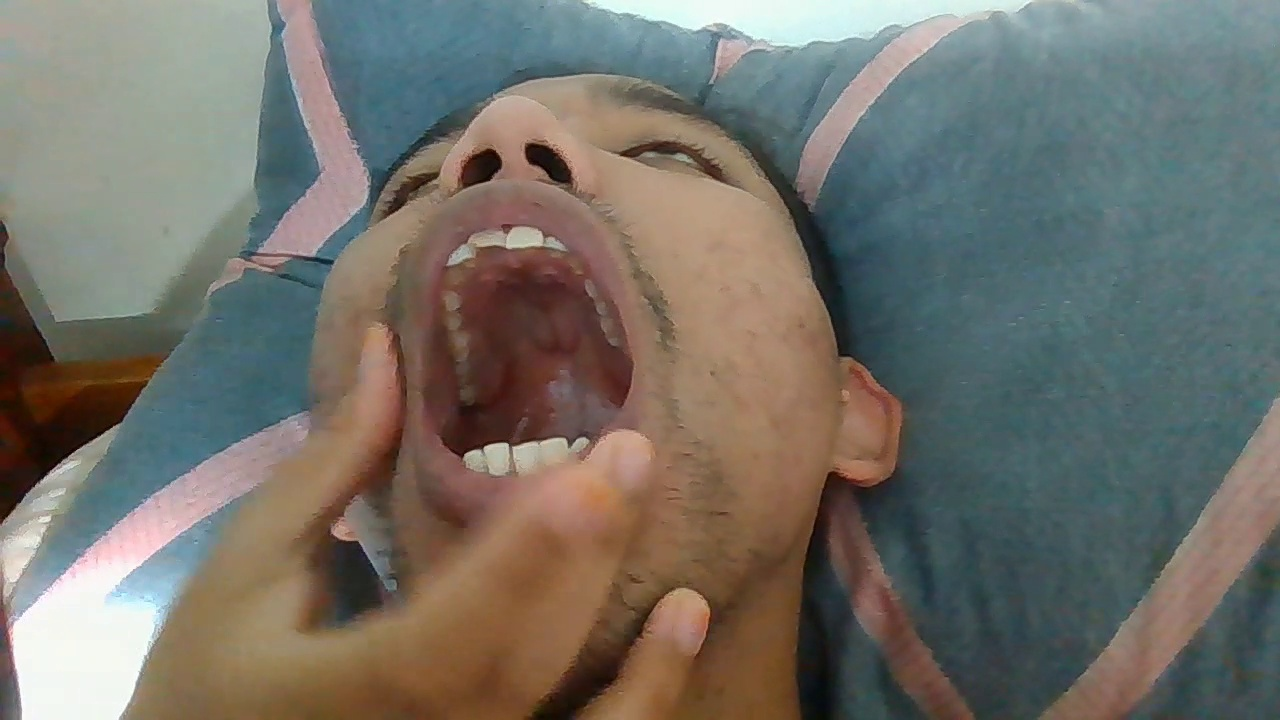1st Molar: (600, 316, 631, 346), (448, 332, 472, 363)
1st Premolar: (440, 287, 464, 311), (584, 277, 604, 298)
2nd Molar: (454, 364, 469, 387)
2nd Premolar: (594, 299, 620, 316), (442, 312, 464, 329)
3rd Molar: (457, 386, 479, 408)
Canine: (570, 434, 593, 452)
Central Incisor: (483, 440, 512, 477), (512, 441, 541, 476), (467, 227, 505, 253), (506, 224, 544, 250)
Lateral Incisor: (541, 437, 568, 466), (445, 244, 478, 266), (462, 448, 486, 472), (543, 232, 569, 251)
